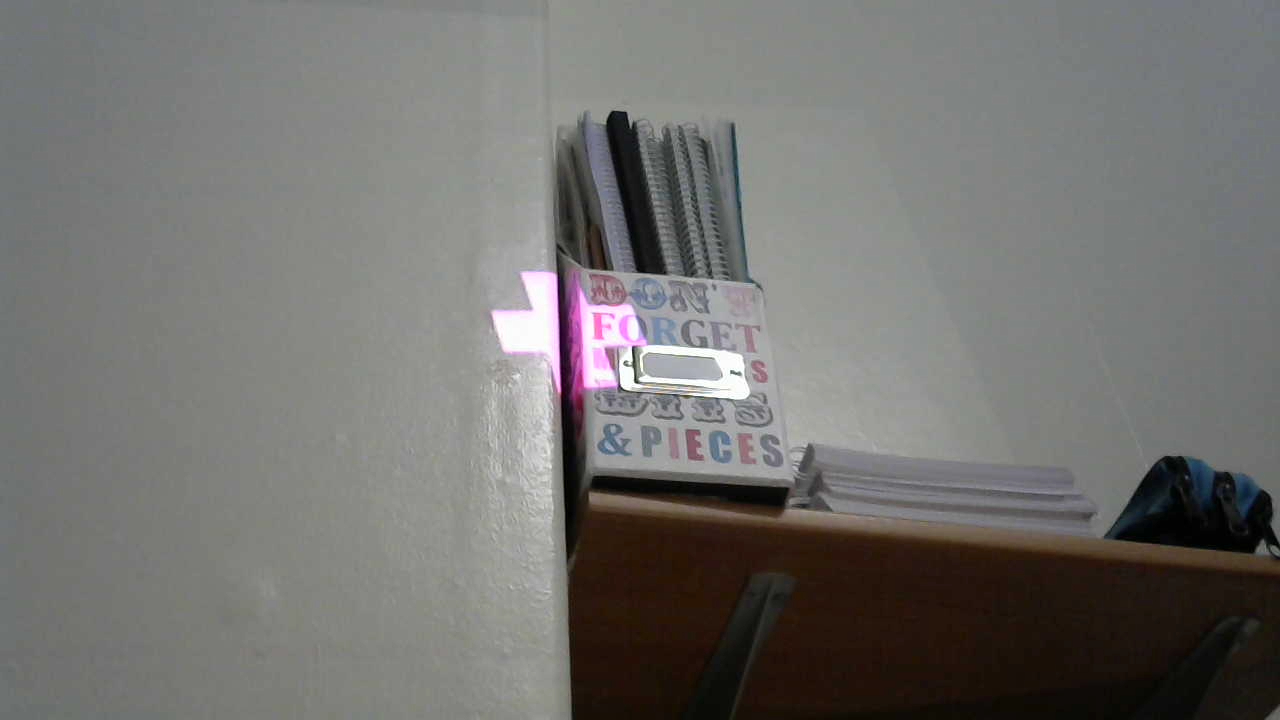calibration_symbol: (491, 271, 646, 391)
